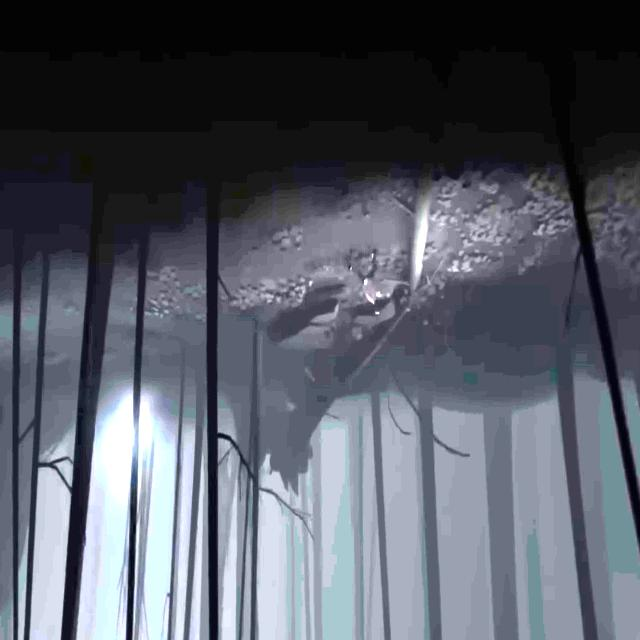boy: (359, 252, 389, 318)
